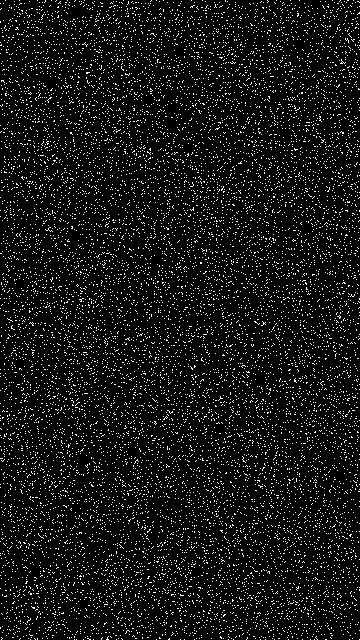pot: (77, 335, 217, 478)
